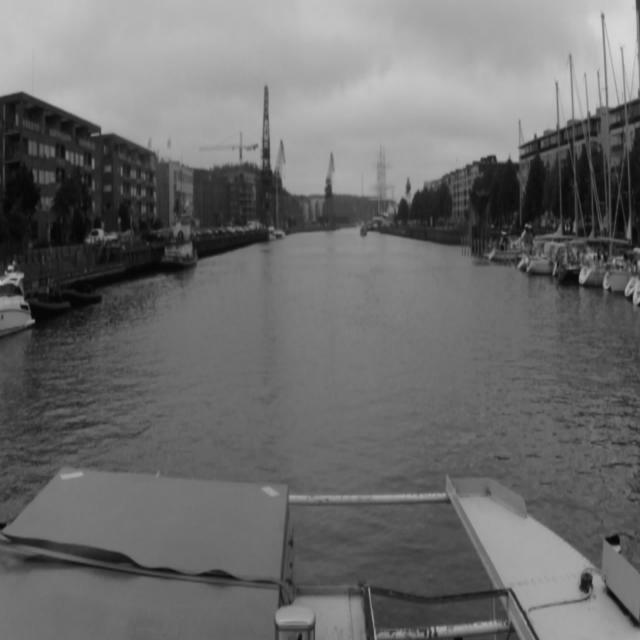ship: (530, 53, 578, 274), (603, 46, 634, 292), (493, 119, 527, 262), (370, 141, 400, 232), (160, 213, 196, 271), (2, 262, 31, 332), (273, 167, 285, 239), (361, 172, 366, 236)
